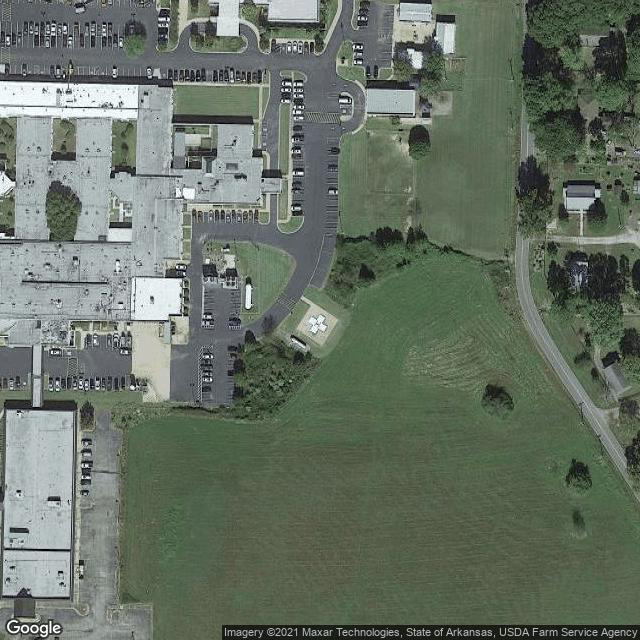Helipad: (305, 306, 330, 341)
